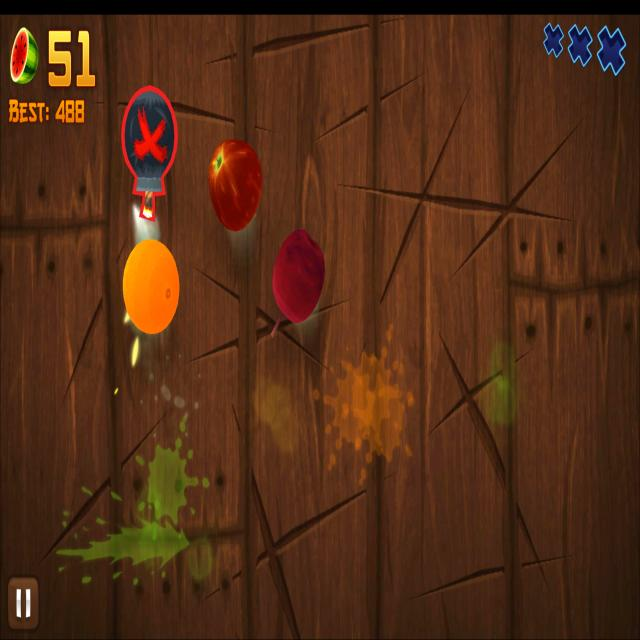bomb: (120, 84, 180, 222)
fruit: (122, 236, 180, 336), (272, 228, 326, 325), (208, 138, 263, 232)
